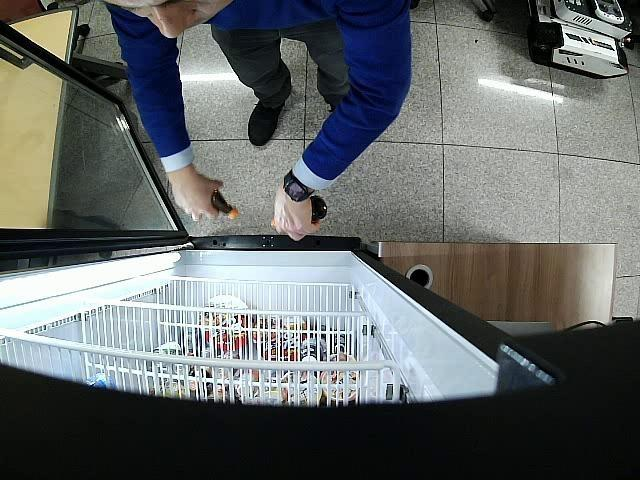17_vita500: (268, 194, 329, 229), (212, 188, 239, 219)
